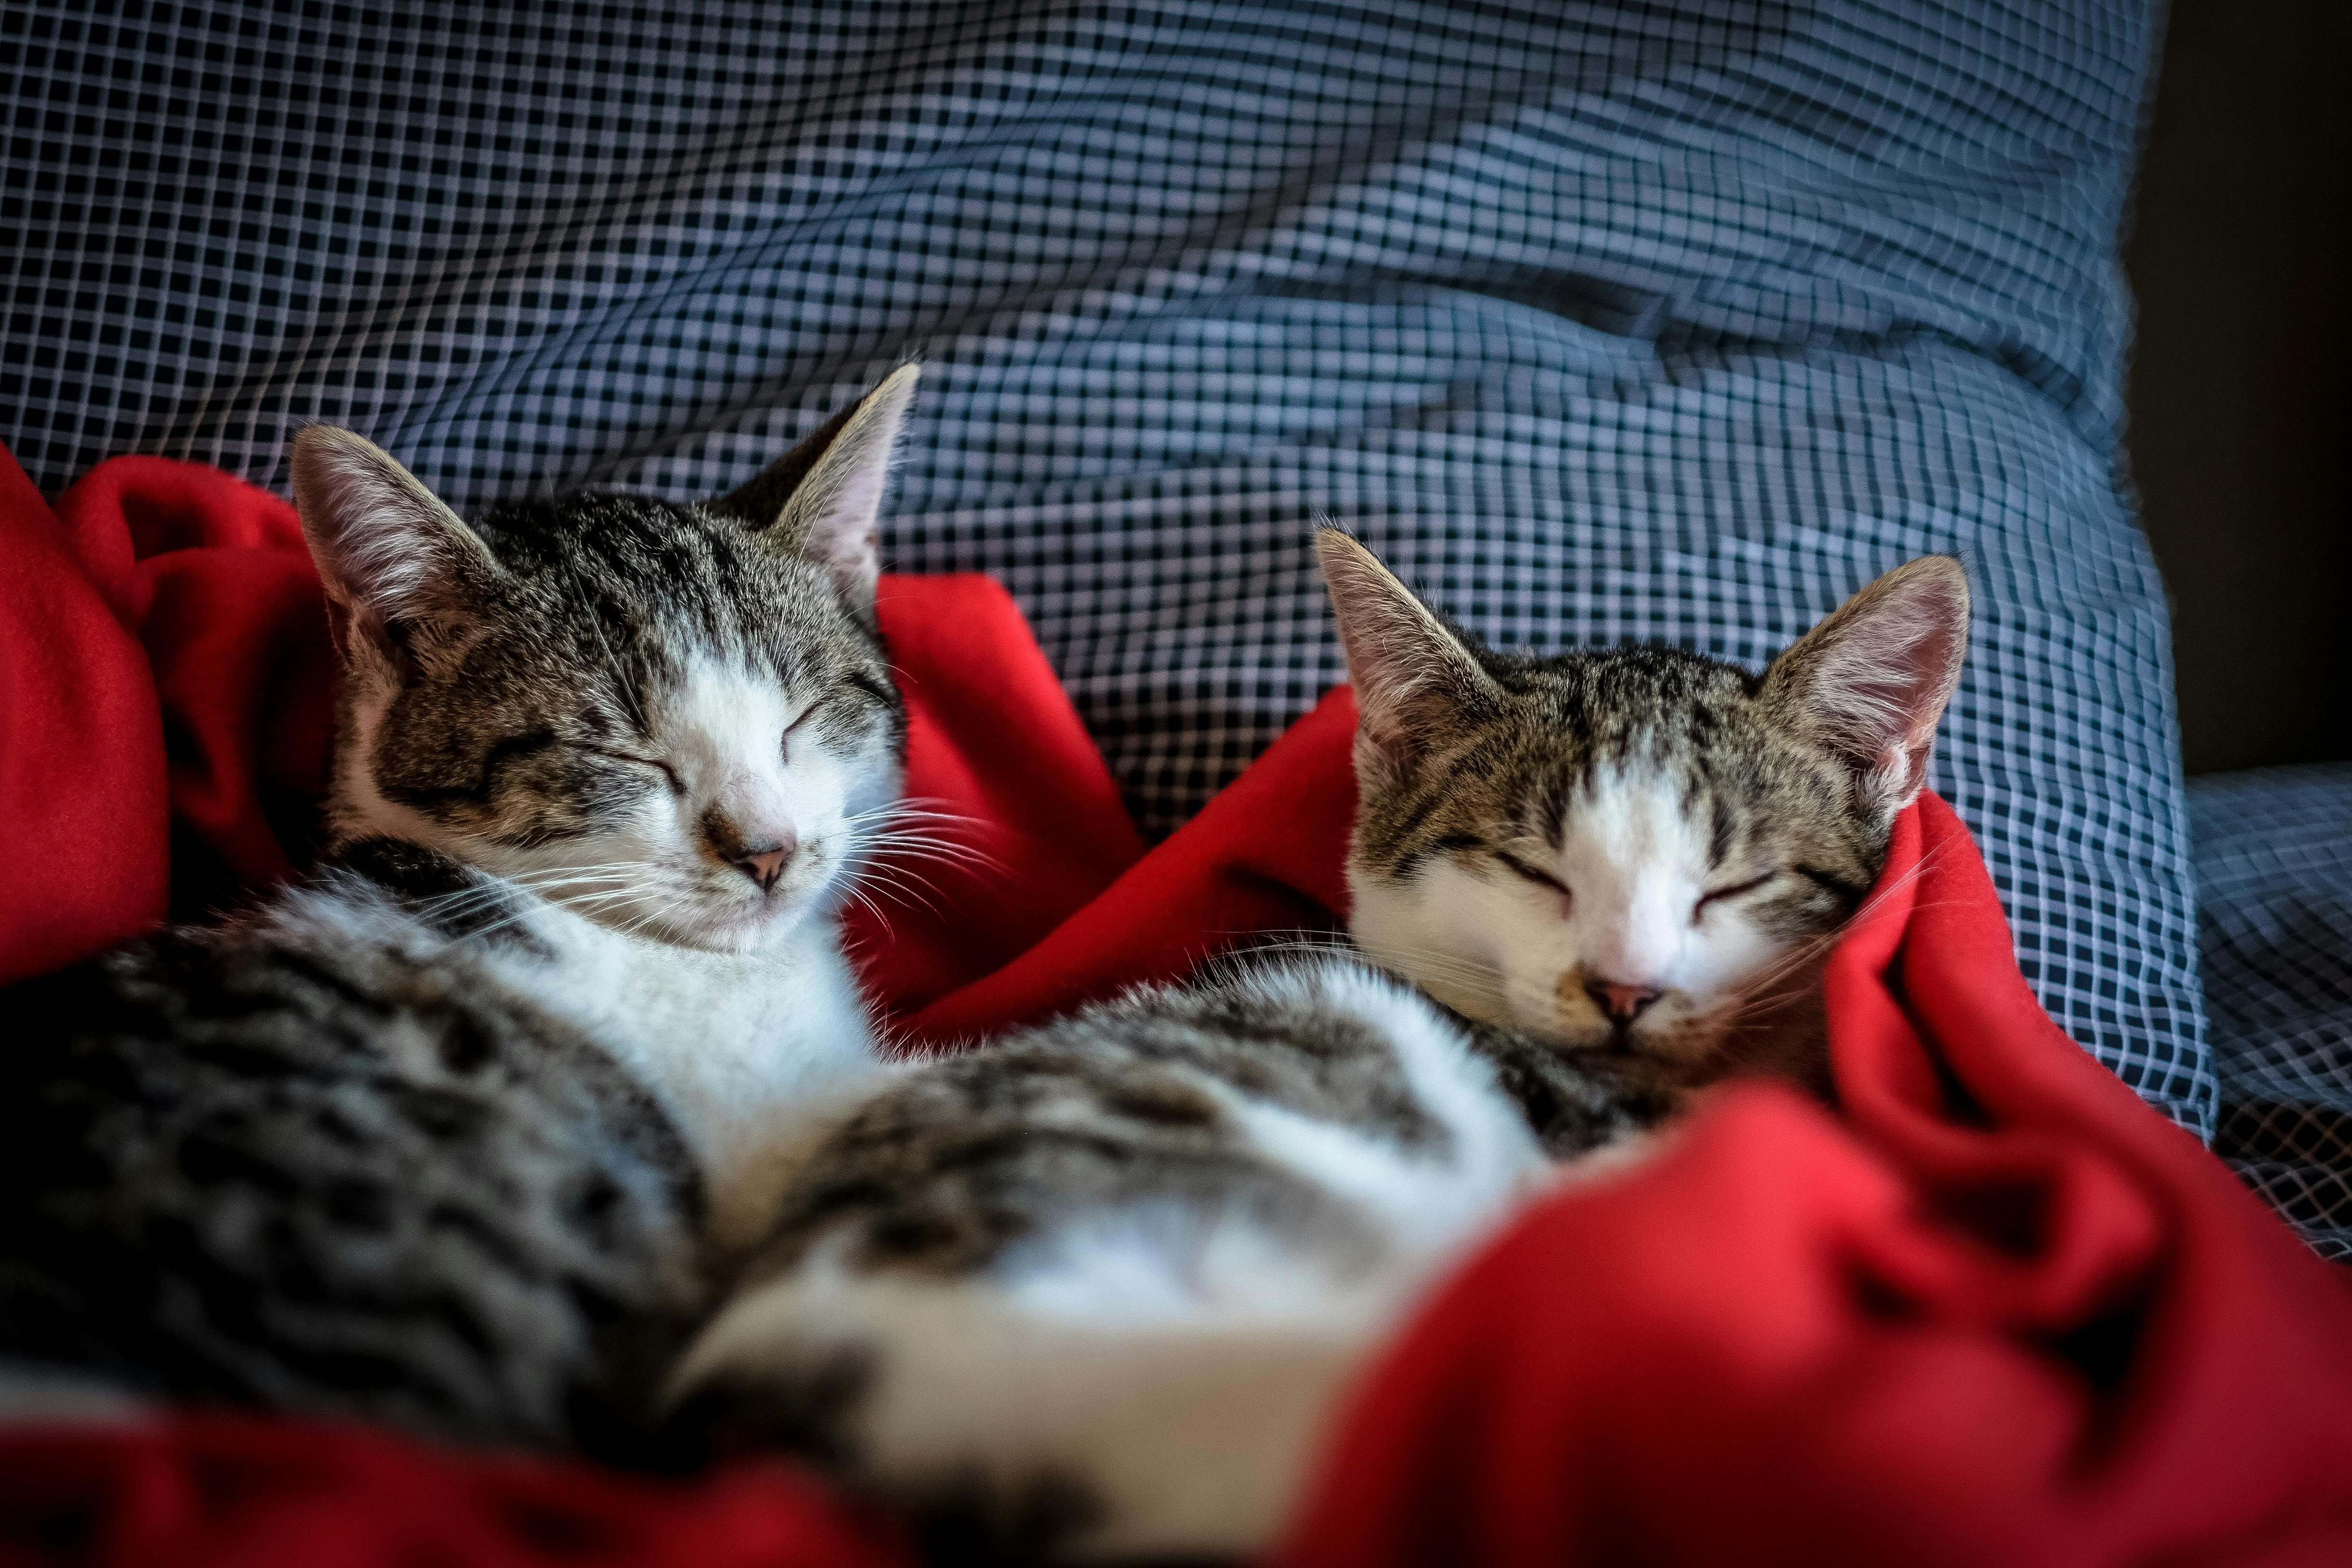kedo: (0, 353, 987, 1480), (1038, 535, 1997, 1501)
